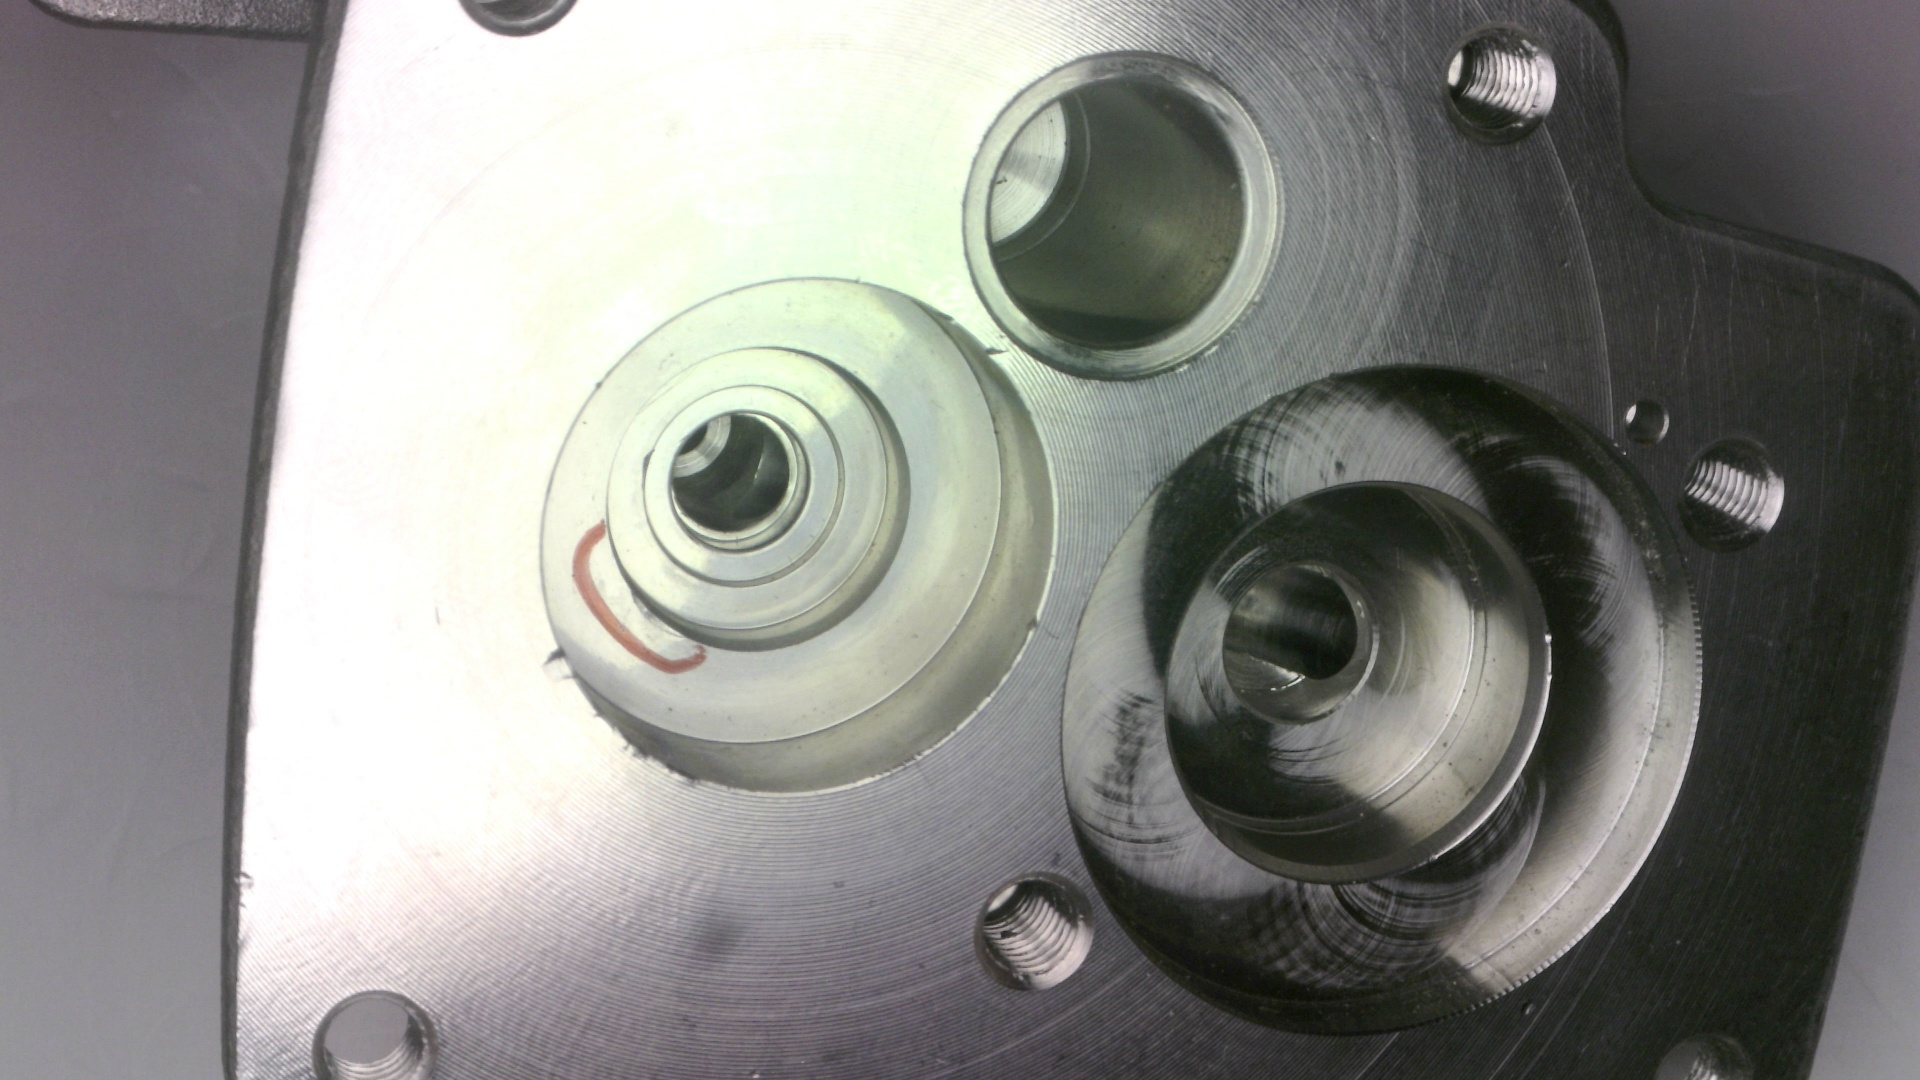chamfer_absence: (1398, 1064, 1571, 1080)
